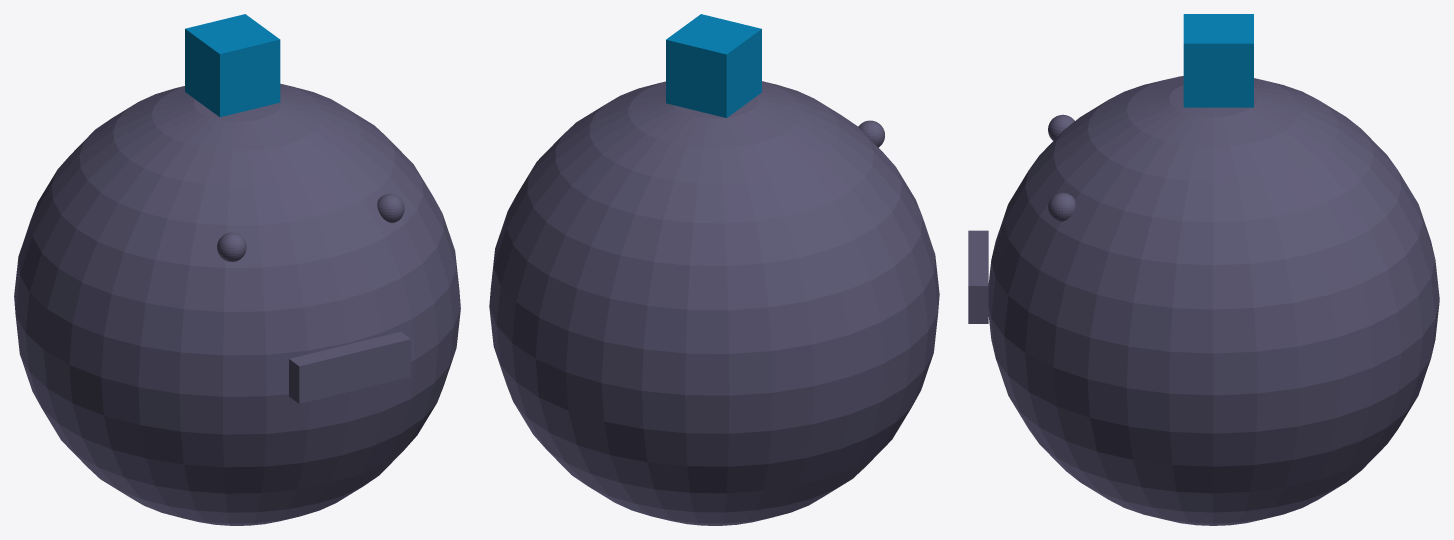
Rendered from player.obj.
3 views of the same model, side by side, from view 1: azimuth 30°, elevation 25°; view 2: azimuth 150°, elevation 25°; view 3: azimuth 270°, elevation 25° (orthographic).
Parts seen in each view (by area): view 1: 立方体.001; view 2: 立方体.001; view 3: 立方体.001.
Part boxes in pixels (x1=…): 立方体.001: x1=14, y1=14, x2=460, y2=525; 立方体.001: x1=489, y1=14, x2=939, y2=525; 立方体.001: x1=968, y1=14, x2=1439, y2=525.
Bounding box in the file's own units: 1.04 × 1.2 × 1.08.
Materials: 2 (2 with a texture image).
